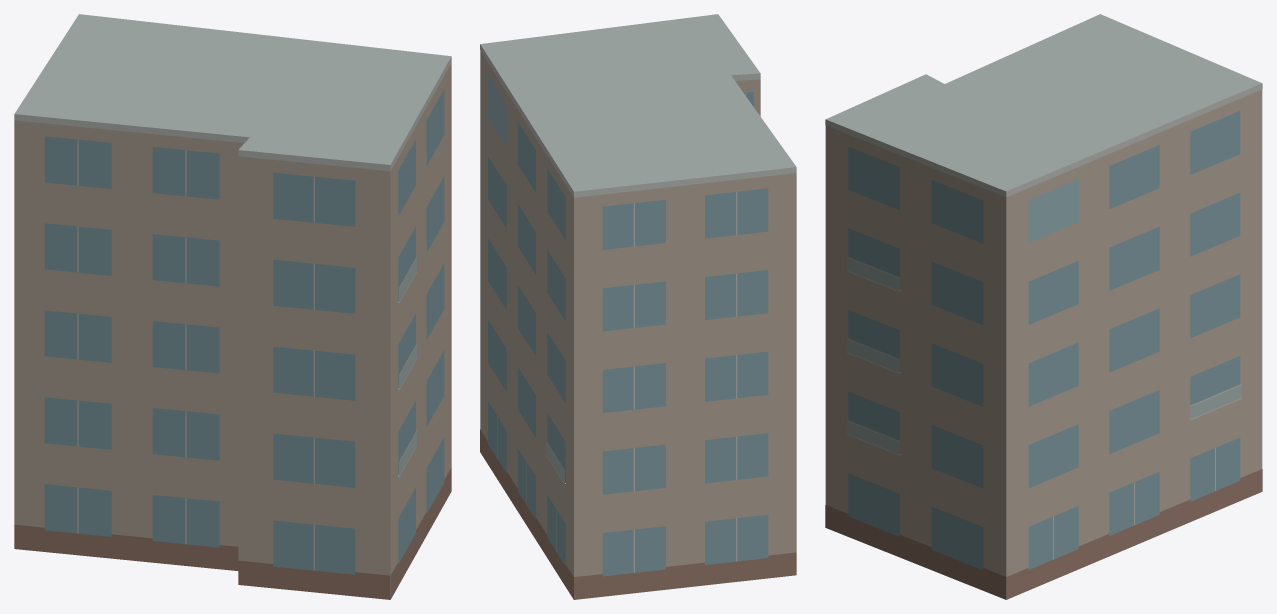
File: survey-upis-32972503.glb
3 views of the same model, side by side, from view 1: azimuth 30°, elevation 25°; view 2: azimuth 150°, elevation 25°; view 3: azimuth 270°, elevation 25° (orthographic). The views are drawn at different scales.
Parts seen in each view (by area): view 1: survey-upis-32972503.tmp; view 2: survey-upis-32972503.tmp; view 3: survey-upis-32972503.tmp.
Part boxes in pixels (box(x1,y1,x2,y2)): survey-upis-32972503.tmp: box(14, 14, 451, 599); survey-upis-32972503.tmp: box(480, 14, 796, 599); survey-upis-32972503.tmp: box(825, 14, 1262, 599).
Bounding box in the file's own units: 15.53 × 16.65 × 16.15.
